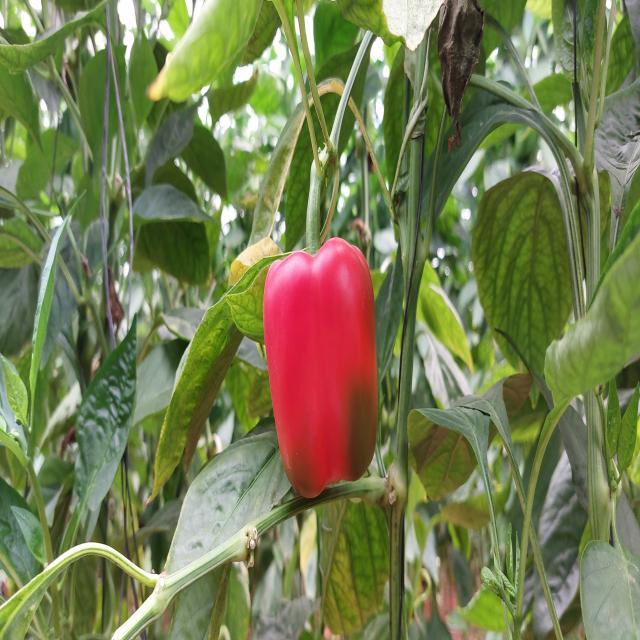Red-Ready-to-Harvest: (248, 247, 396, 519)
